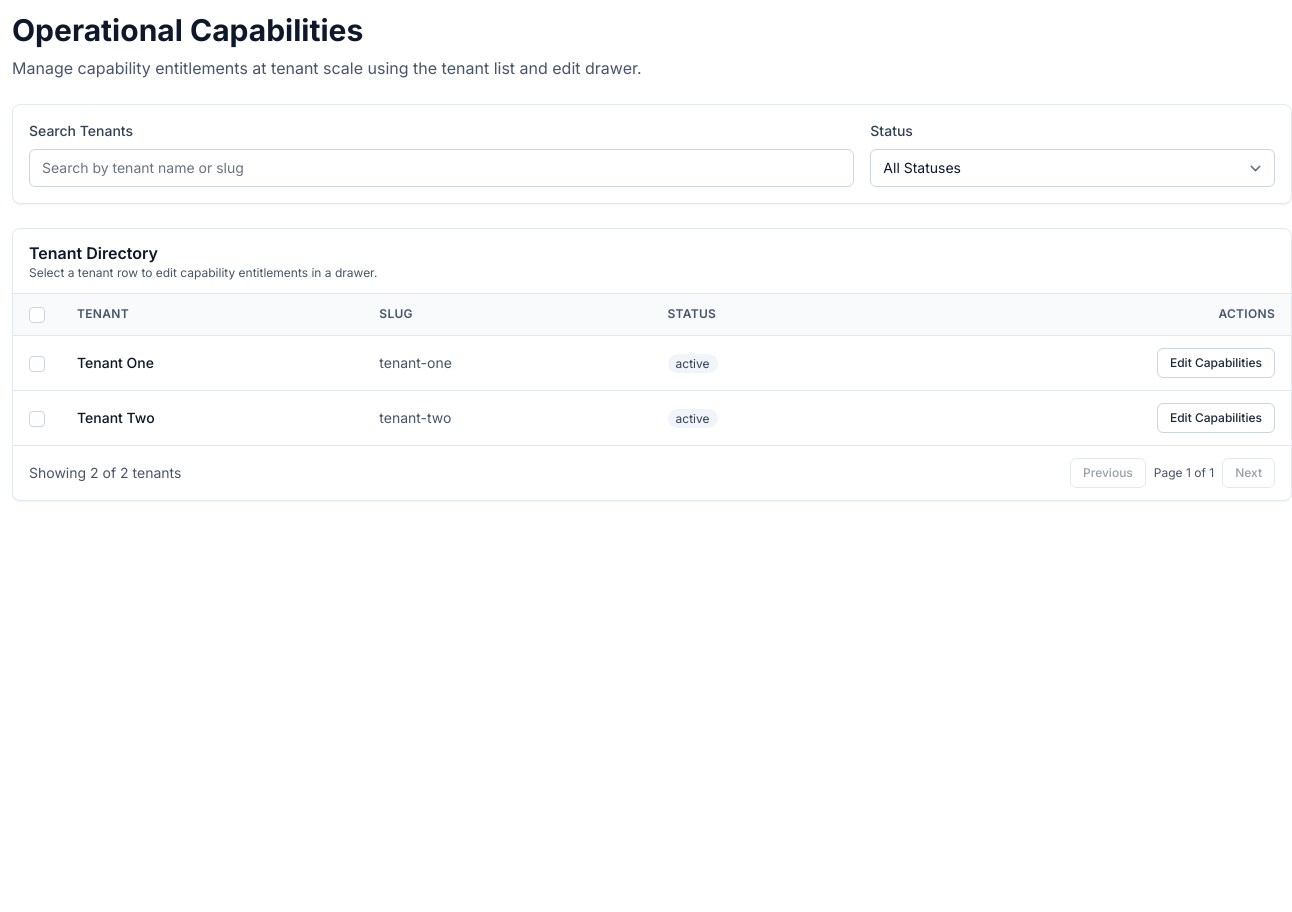
Test case: OperationalCapabilitiesPage › requires entitlement change reason when capability values changed
Click the button "Edit Capabilities" in the row of "Tenant One": (1216, 363) [1157, 348, 1275, 378]
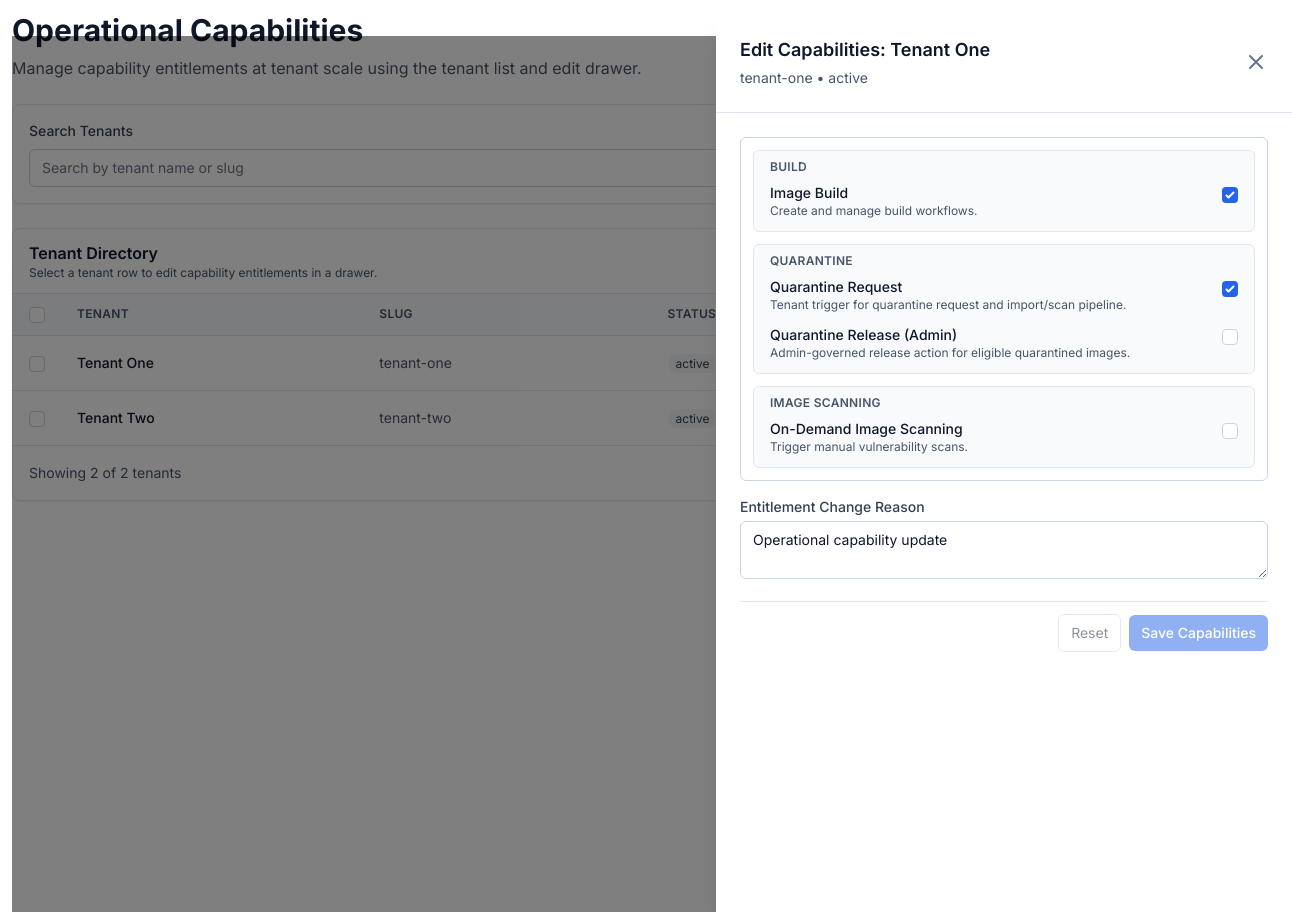
Click the checkbox labelled "Image Build Create and manage build workflows.": (1230, 195) [1222, 187, 1238, 203]
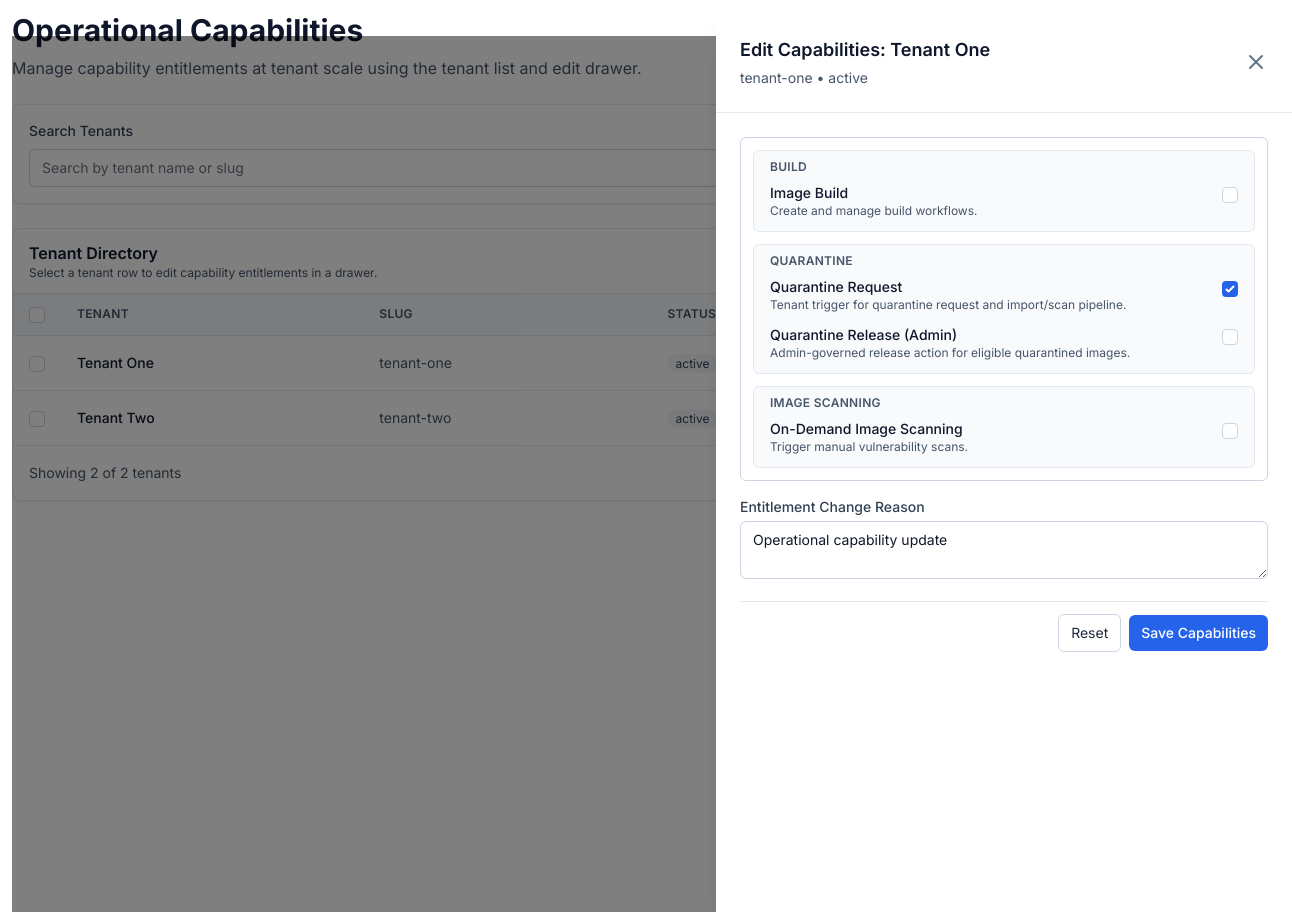
Clear the text box with placeholder "Reason for capability entitlement changes": (1004, 550) [740, 521, 1268, 579]
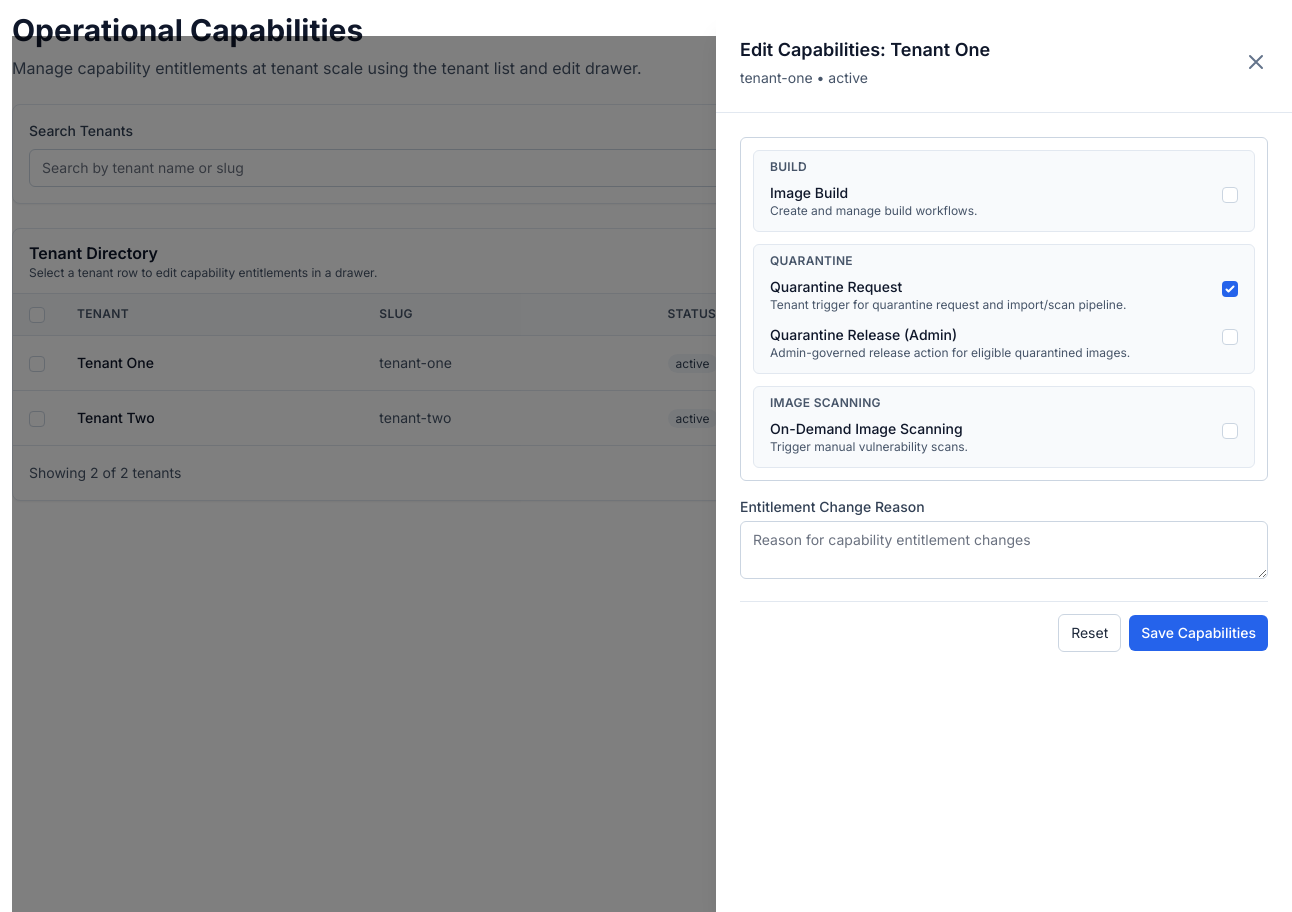
Click the button "Save Capabilities": (1199, 633) [1129, 615, 1268, 651]
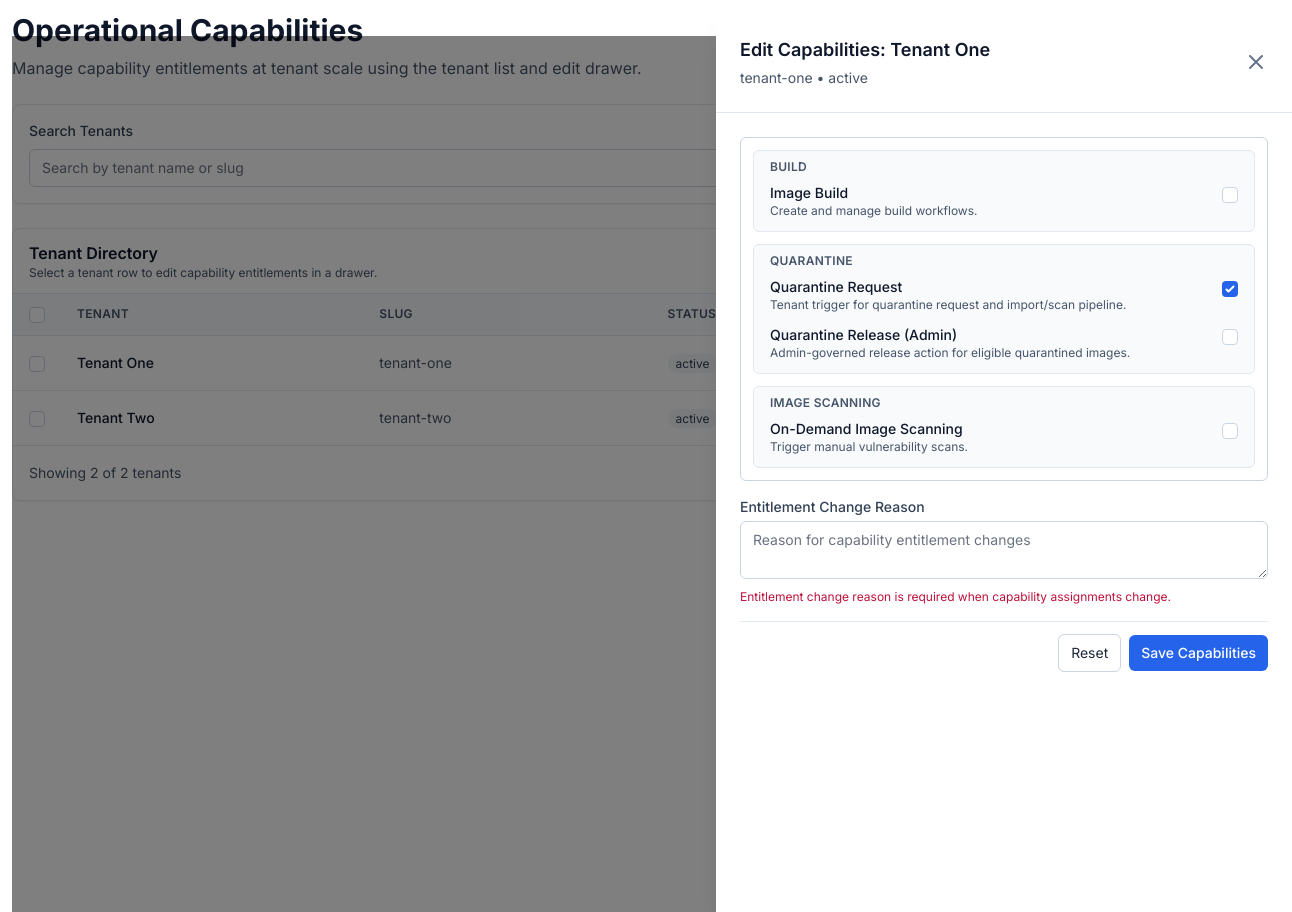
Now the text "Entitlement change reason is required" is shown, box [740, 589, 1171, 604]
